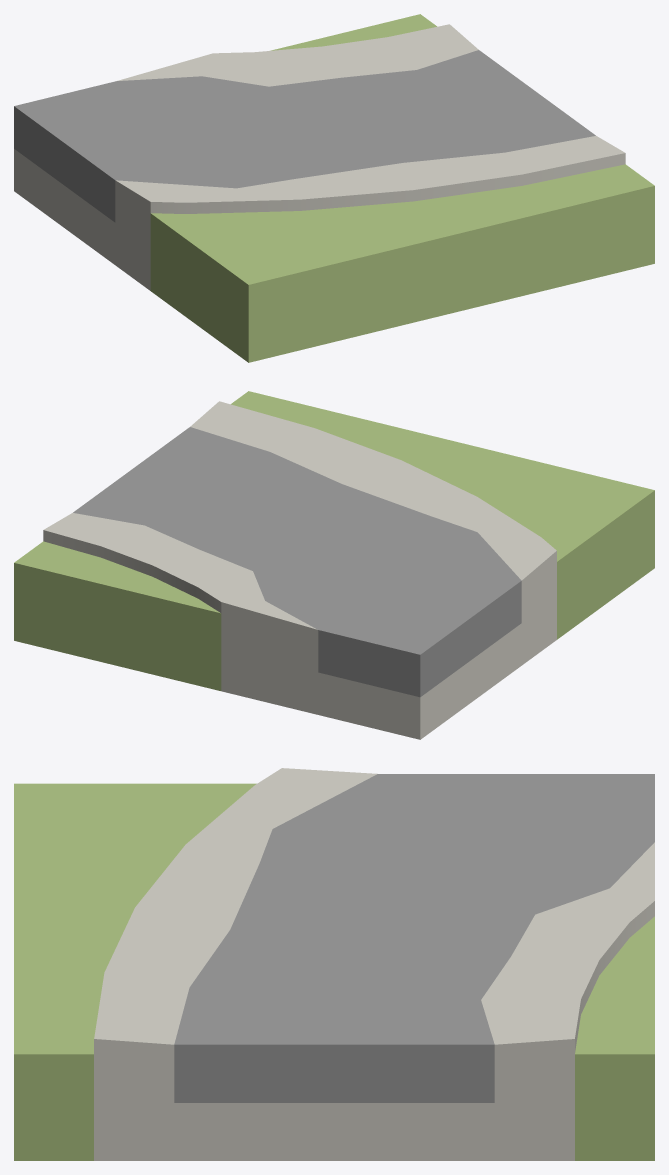
File: SM_ROAD_04.fbx
3 views of the same model, one above another, from view 1: azimuth 30°, elevation 25°; view 2: azimuth 150°, elevation 25°; view 3: azimuth 270°, elevation 25° (orthographic). The views are drawn at different scales.
Parts seen in each view (by area): view 1: ROAD_04; view 2: ROAD_04; view 3: ROAD_04.
Boxes of the visible parts, bbox=[...] form: ROAD_04: bbox=[14, 14, 654, 362]; ROAD_04: bbox=[14, 391, 654, 739]; ROAD_04: bbox=[14, 768, 654, 1160].
Size of the model in its own units: 437 by 91.85 by 437.
